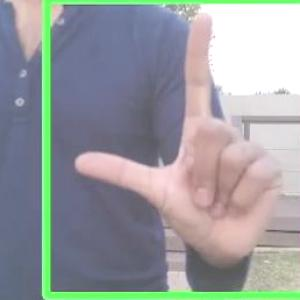land_hand: (60, 0, 293, 277)
